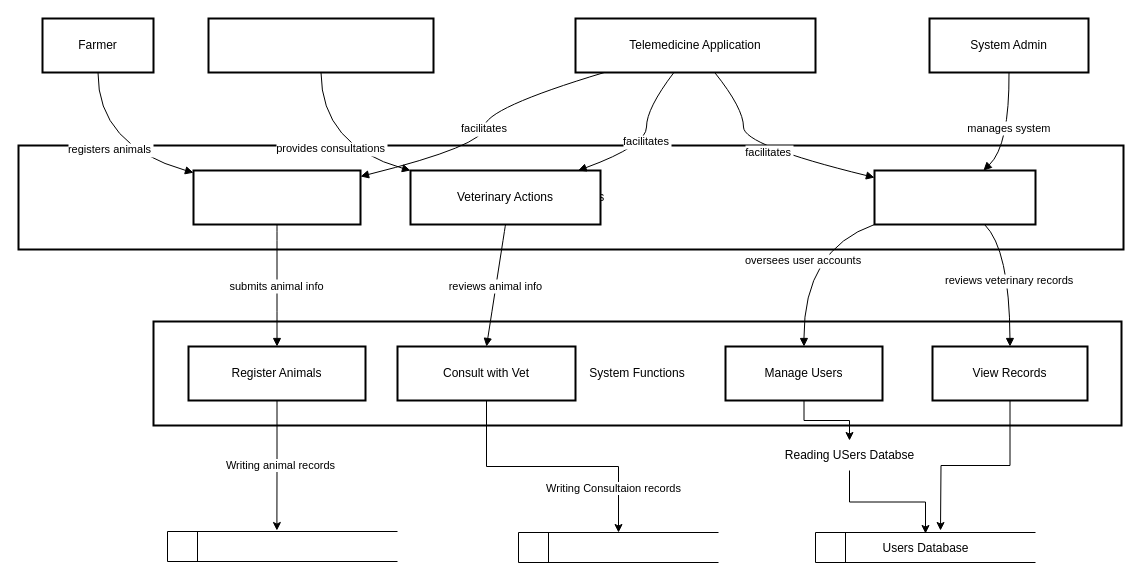
Some shapes in this 1141 by 580 pixel diagram are drawn without their labels. The shapes that lost their labels are listed below. From the top down, each one's centre as x and y in pixels, then its label:
At point (320, 45): "Veterinary Professional".
At point (276, 197): "Farmer Actions".
At point (954, 197): "Admin Actions".
At point (282, 546): "Animal Database".
At point (618, 547): "Schedule Database".
